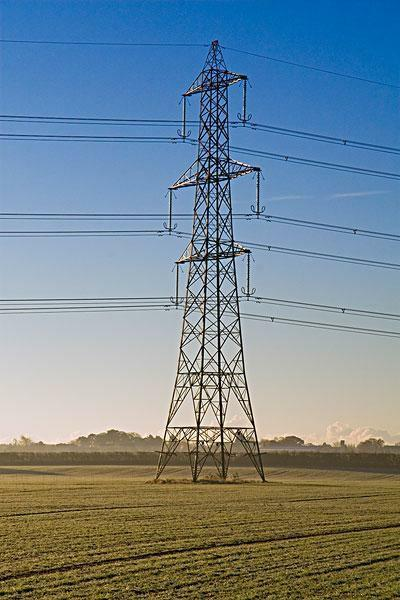power_tower: (131, 30, 287, 488)
